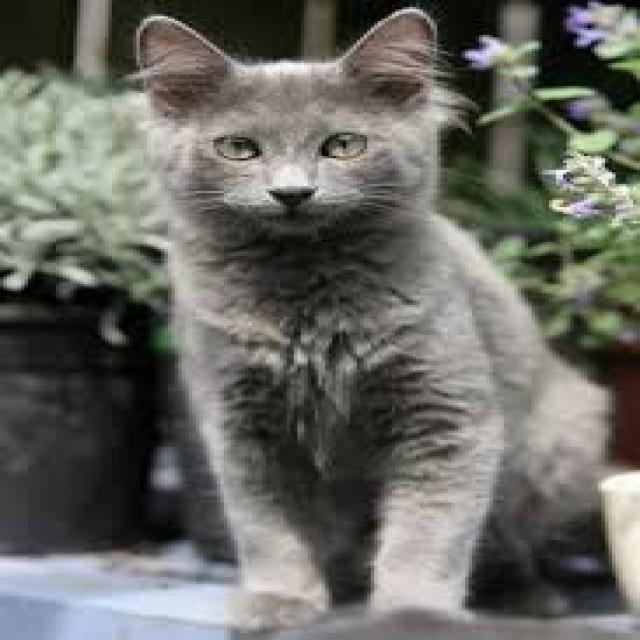Cat: (118, 4, 615, 640)
